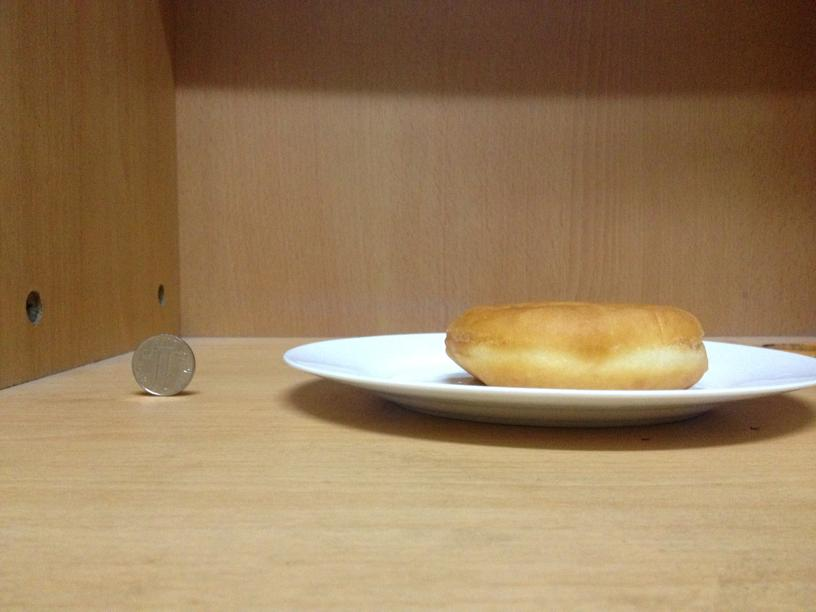coin: (131, 333, 196, 396)
doughnut: (440, 303, 710, 387)
